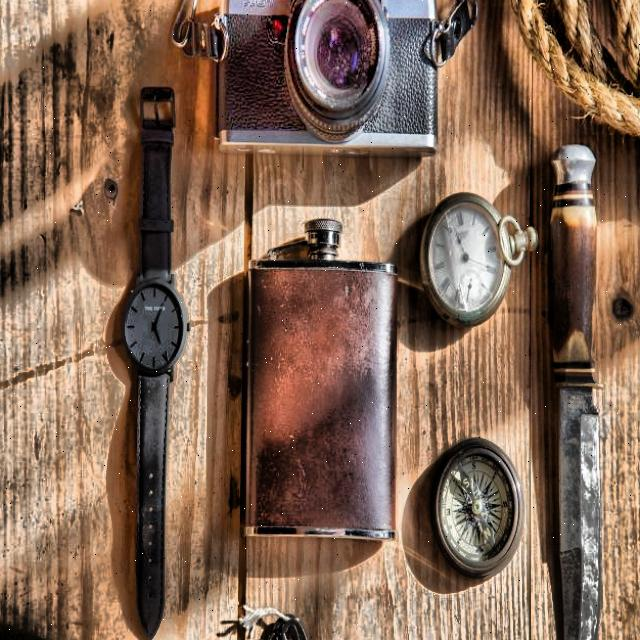knife: (553, 133, 603, 640)
